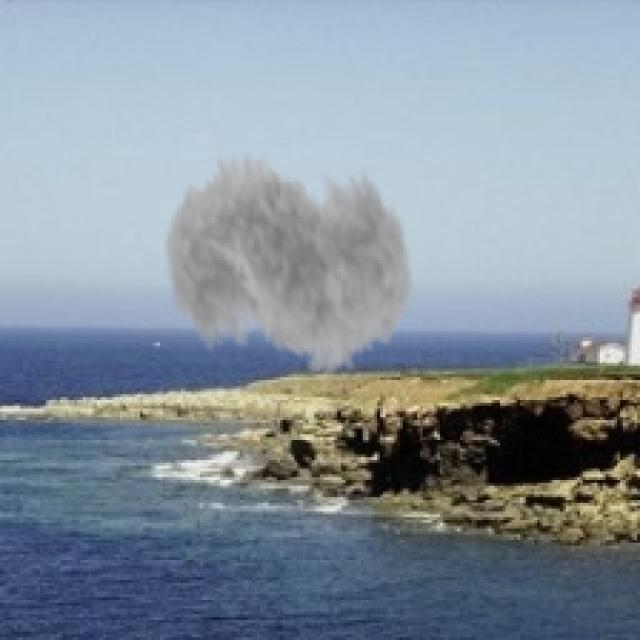Smoke: (163, 122, 414, 398)
